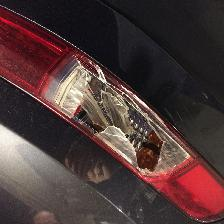tail_lamp: (50, 50, 183, 199)
